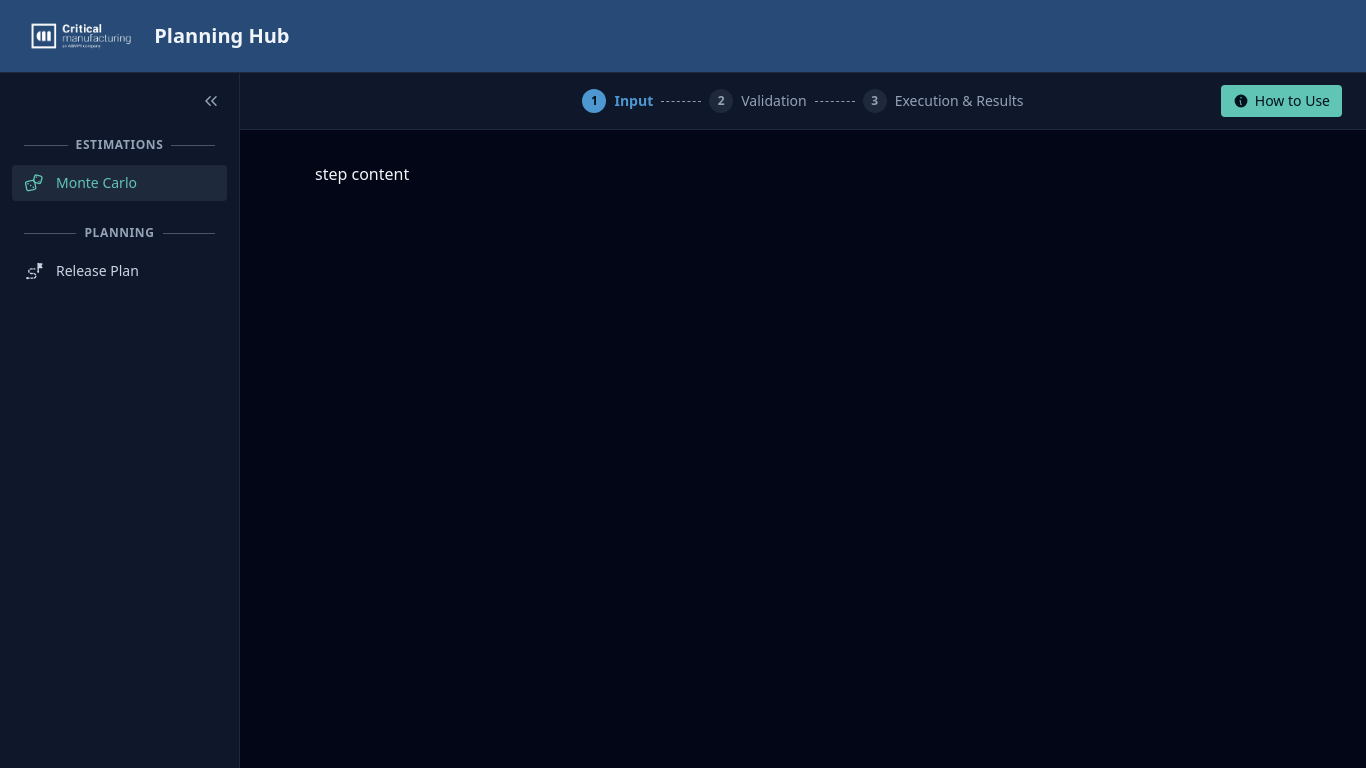
MonteCarloLayout › opens and closes the help modal from the How to Use button
Click the button "How to Use": (1281, 101) [1221,85,1342,117]
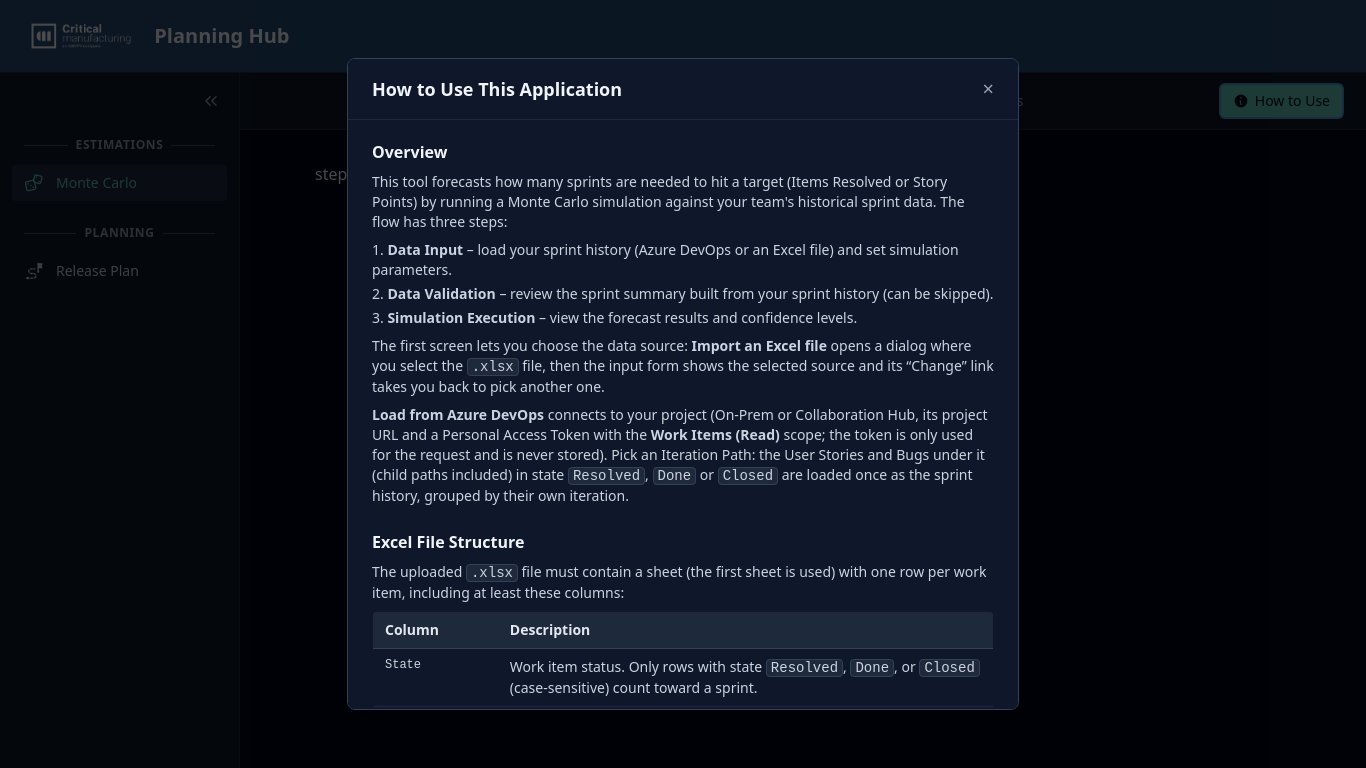
Now the dialog "How to Use This Application" is shown
Click the button named "Close": (988, 89) [982,79,994,99]
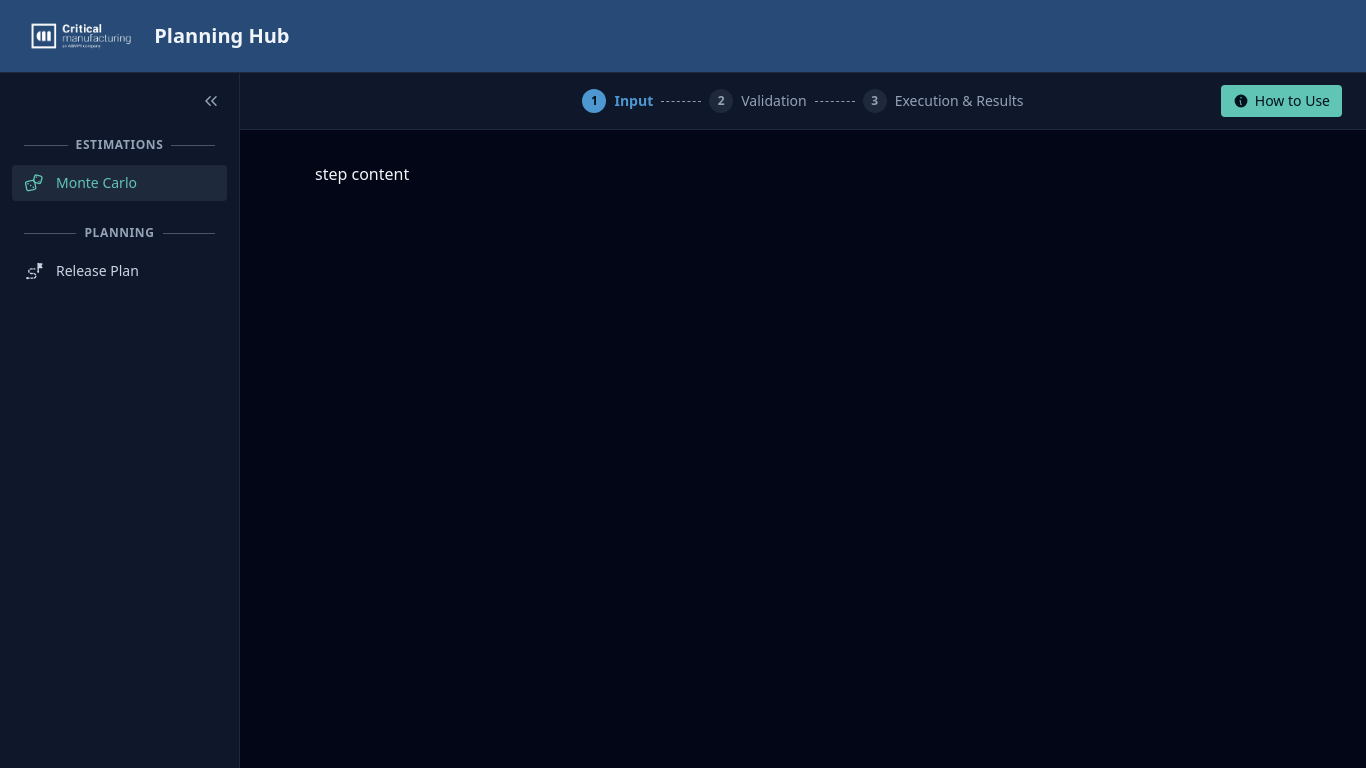
Now the dialog is gone
